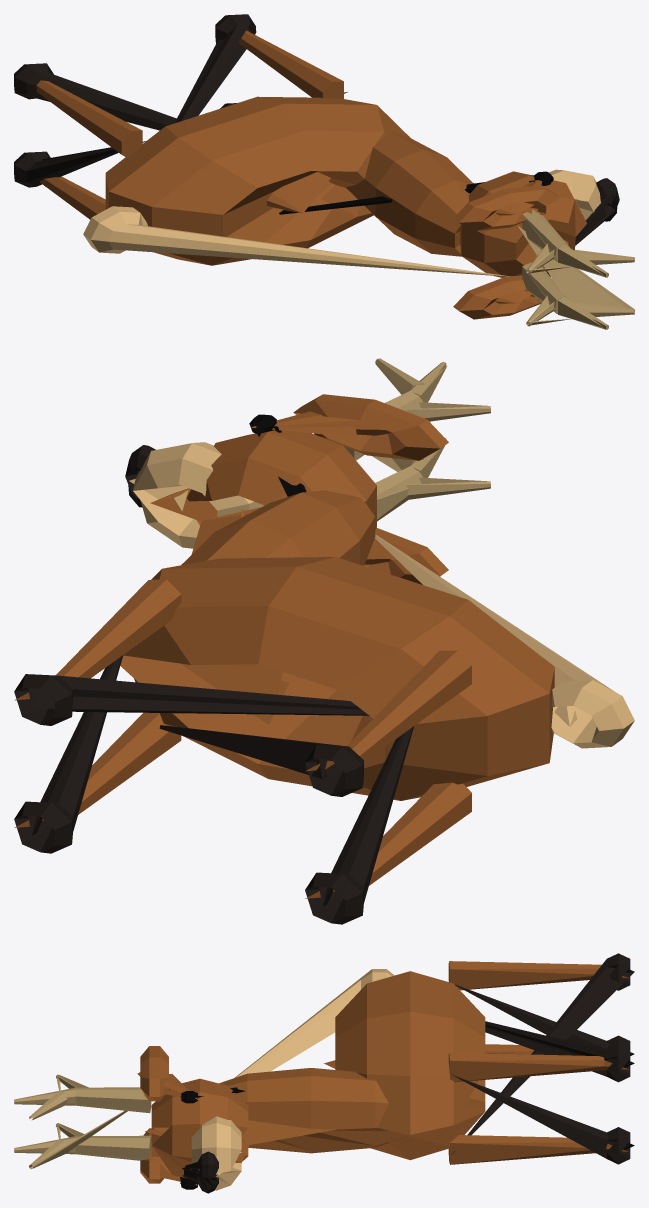
The model's file is deer_lowpoly.obj.
The picture shows the model from 3 angles, top to bottom: view 1: azimuth 30°, elevation 25°; view 2: azimuth 150°, elevation 25°; view 3: azimuth 270°, elevation 25°; orthographic projection. The views are drawn at different scales.
Visible parts, largest first — view 1: Deer; view 2: Deer; view 3: Deer.
Part boxes in pixels (x1,y1,x2,y2): Deer: [14, 14, 634, 329]; Deer: [14, 358, 634, 924]; Deer: [14, 953, 634, 1193].
Bounding box in the file's own units: 2.29 × 0.6894 × 3.01.
